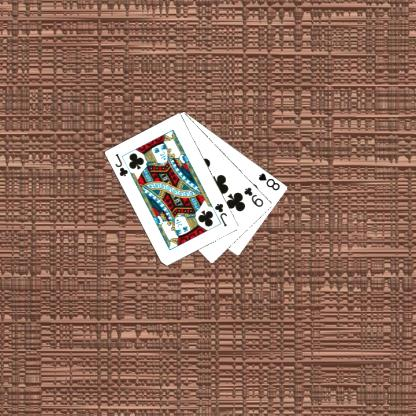8S: (256, 170, 281, 192)
9C: (242, 184, 265, 209)
JC: (212, 200, 229, 228), (113, 151, 130, 178)
